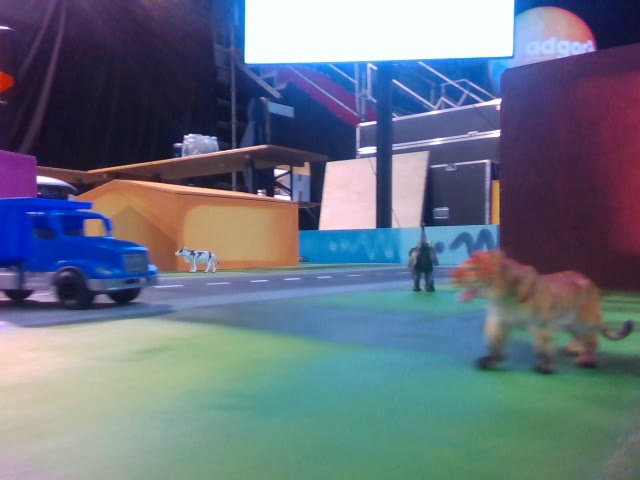toy: (450, 250, 634, 373), (407, 223, 439, 291), (174, 246, 220, 274)
